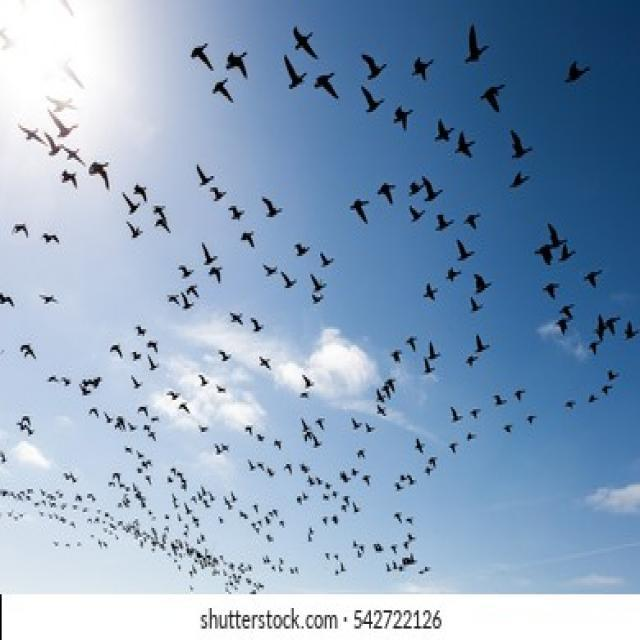bird: (174, 497, 220, 575), (560, 49, 606, 106), (284, 12, 326, 66), (355, 73, 393, 124), (44, 100, 86, 146), (355, 40, 393, 90), (457, 14, 492, 68), (505, 127, 550, 168), (222, 40, 258, 88), (452, 124, 488, 172), (311, 59, 344, 108), (387, 99, 422, 140), (184, 38, 220, 76), (476, 79, 509, 120), (280, 50, 307, 100), (344, 188, 374, 233), (88, 148, 116, 194), (222, 560, 252, 601), (15, 108, 44, 150), (430, 110, 458, 153), (38, 86, 78, 116), (206, 76, 239, 112), (62, 138, 94, 175), (408, 54, 439, 90), (540, 213, 570, 250), (145, 515, 175, 552), (504, 163, 534, 196), (177, 279, 202, 318), (618, 311, 640, 355), (40, 134, 68, 168), (374, 174, 399, 212), (296, 416, 321, 453), (601, 307, 623, 348), (461, 204, 488, 237), (131, 178, 156, 213), (123, 516, 146, 554), (429, 207, 456, 239), (454, 233, 481, 265), (206, 172, 232, 205), (192, 156, 218, 188), (260, 545, 286, 577), (168, 250, 196, 278), (294, 364, 324, 390), (582, 258, 604, 293), (111, 469, 130, 508), (421, 178, 449, 204), (260, 190, 286, 218), (306, 267, 332, 295), (473, 265, 495, 297), (488, 385, 513, 413), (41, 472, 54, 525), (258, 257, 282, 285), (0, 282, 21, 314), (198, 238, 220, 268), (54, 466, 84, 487), (236, 223, 261, 248), (442, 260, 464, 288), (532, 240, 554, 268), (290, 232, 312, 260), (419, 278, 439, 308), (474, 330, 494, 360), (282, 268, 299, 303), (9, 215, 34, 238), (14, 410, 36, 436), (54, 167, 82, 187), (250, 512, 270, 540), (138, 454, 158, 482), (197, 484, 220, 508), (465, 295, 487, 320), (408, 204, 426, 234), (420, 354, 438, 384), (16, 341, 41, 362), (406, 174, 424, 202), (447, 401, 465, 429), (123, 222, 151, 240), (106, 335, 126, 360), (144, 353, 164, 378), (42, 228, 61, 254), (540, 276, 562, 298), (386, 346, 409, 367), (560, 244, 580, 268), (588, 313, 603, 345), (85, 368, 104, 393), (254, 351, 276, 372), (144, 336, 166, 357), (560, 296, 578, 321), (512, 384, 530, 409), (350, 534, 365, 564), (2, 488, 26, 506), (132, 484, 150, 508), (428, 332, 442, 362), (308, 290, 328, 311), (118, 199, 144, 215), (336, 464, 354, 487), (150, 220, 175, 236), (151, 198, 171, 218), (130, 342, 144, 370), (228, 199, 245, 222), (321, 246, 334, 276), (38, 287, 62, 303), (194, 364, 210, 388), (250, 312, 265, 337), (411, 436, 428, 458), (584, 386, 598, 412), (58, 370, 76, 390), (227, 307, 244, 328), (74, 383, 88, 408), (172, 465, 186, 490), (213, 351, 234, 367), (408, 522, 424, 543), (210, 262, 223, 287), (585, 340, 603, 358), (130, 370, 144, 393), (240, 416, 254, 439), (466, 427, 481, 448), (468, 404, 482, 426), (350, 414, 364, 436), (105, 506, 116, 534), (553, 322, 571, 339), (604, 363, 620, 382), (270, 433, 286, 452), (46, 537, 62, 556), (406, 328, 419, 351), (316, 409, 329, 432), (114, 412, 126, 436), (164, 385, 182, 401), (298, 458, 314, 476), (334, 560, 350, 578), (255, 454, 268, 476), (500, 424, 520, 438), (373, 386, 385, 409), (132, 322, 149, 338), (296, 387, 314, 402), (218, 436, 233, 454), (241, 458, 256, 476), (252, 574, 267, 592), (562, 396, 575, 416), (100, 407, 113, 427), (211, 440, 224, 460), (270, 504, 283, 524), (464, 352, 480, 368), (354, 444, 370, 460), (352, 496, 364, 517), (375, 403, 388, 422), (164, 292, 179, 308), (195, 424, 210, 440), (287, 562, 302, 578), (237, 508, 252, 524), (401, 550, 418, 564), (45, 368, 58, 386), (63, 538, 73, 561), (382, 384, 396, 400), (267, 458, 275, 486), (392, 558, 406, 574), (599, 382, 617, 394), (217, 380, 229, 398), (390, 506, 402, 524), (121, 439, 133, 457), (397, 470, 410, 486), (284, 462, 297, 478), (424, 450, 441, 462), (291, 496, 308, 508), (422, 463, 432, 483), (179, 397, 189, 417), (384, 375, 396, 391), (340, 495, 348, 518), (126, 422, 140, 435), (306, 476, 319, 490), (329, 512, 342, 526), (448, 440, 458, 458), (362, 470, 372, 488), (86, 406, 101, 418), (308, 524, 316, 546), (369, 540, 386, 550), (365, 422, 378, 435), (348, 463, 361, 476), (524, 414, 538, 426), (408, 468, 416, 489), (136, 402, 150, 414), (148, 430, 160, 444), (408, 507, 416, 528), (326, 471, 334, 492), (228, 488, 240, 502), (252, 498, 264, 512), (395, 477, 403, 497), (332, 550, 342, 566), (142, 473, 152, 489), (77, 532, 85, 551), (72, 490, 84, 502), (302, 487, 310, 503), (324, 548, 332, 564), (389, 537, 397, 553), (87, 488, 95, 504), (256, 433, 266, 445), (151, 411, 161, 423), (382, 561, 392, 573), (323, 514, 330, 528), (134, 449, 148, 456), (96, 534, 104, 546), (421, 569, 431, 578), (30, 496, 37, 508), (144, 422, 150, 434), (319, 492, 331, 498), (332, 489, 338, 501), (104, 539, 109, 551)
